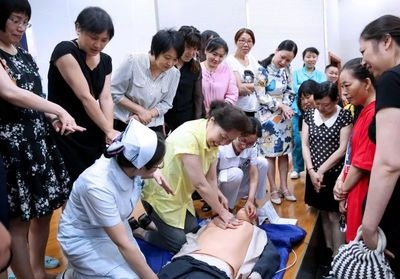falling: (122, 194, 281, 279)
